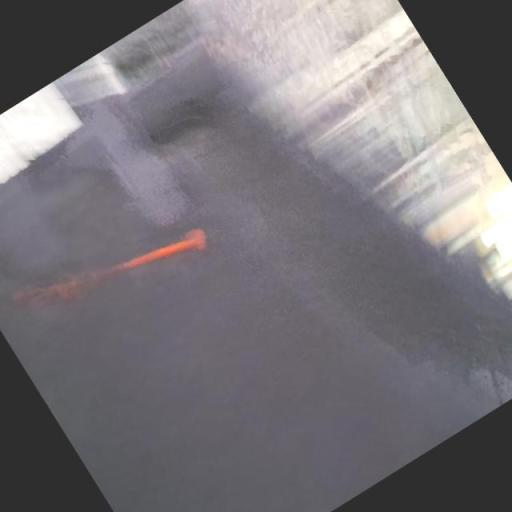mallet: (126, 214, 212, 287)
